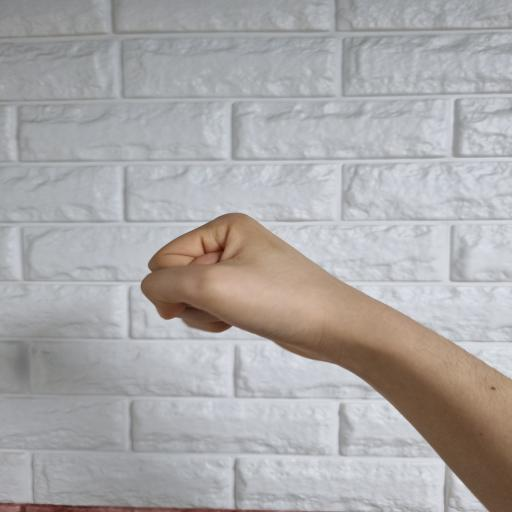Rock: (141, 213, 354, 358)
